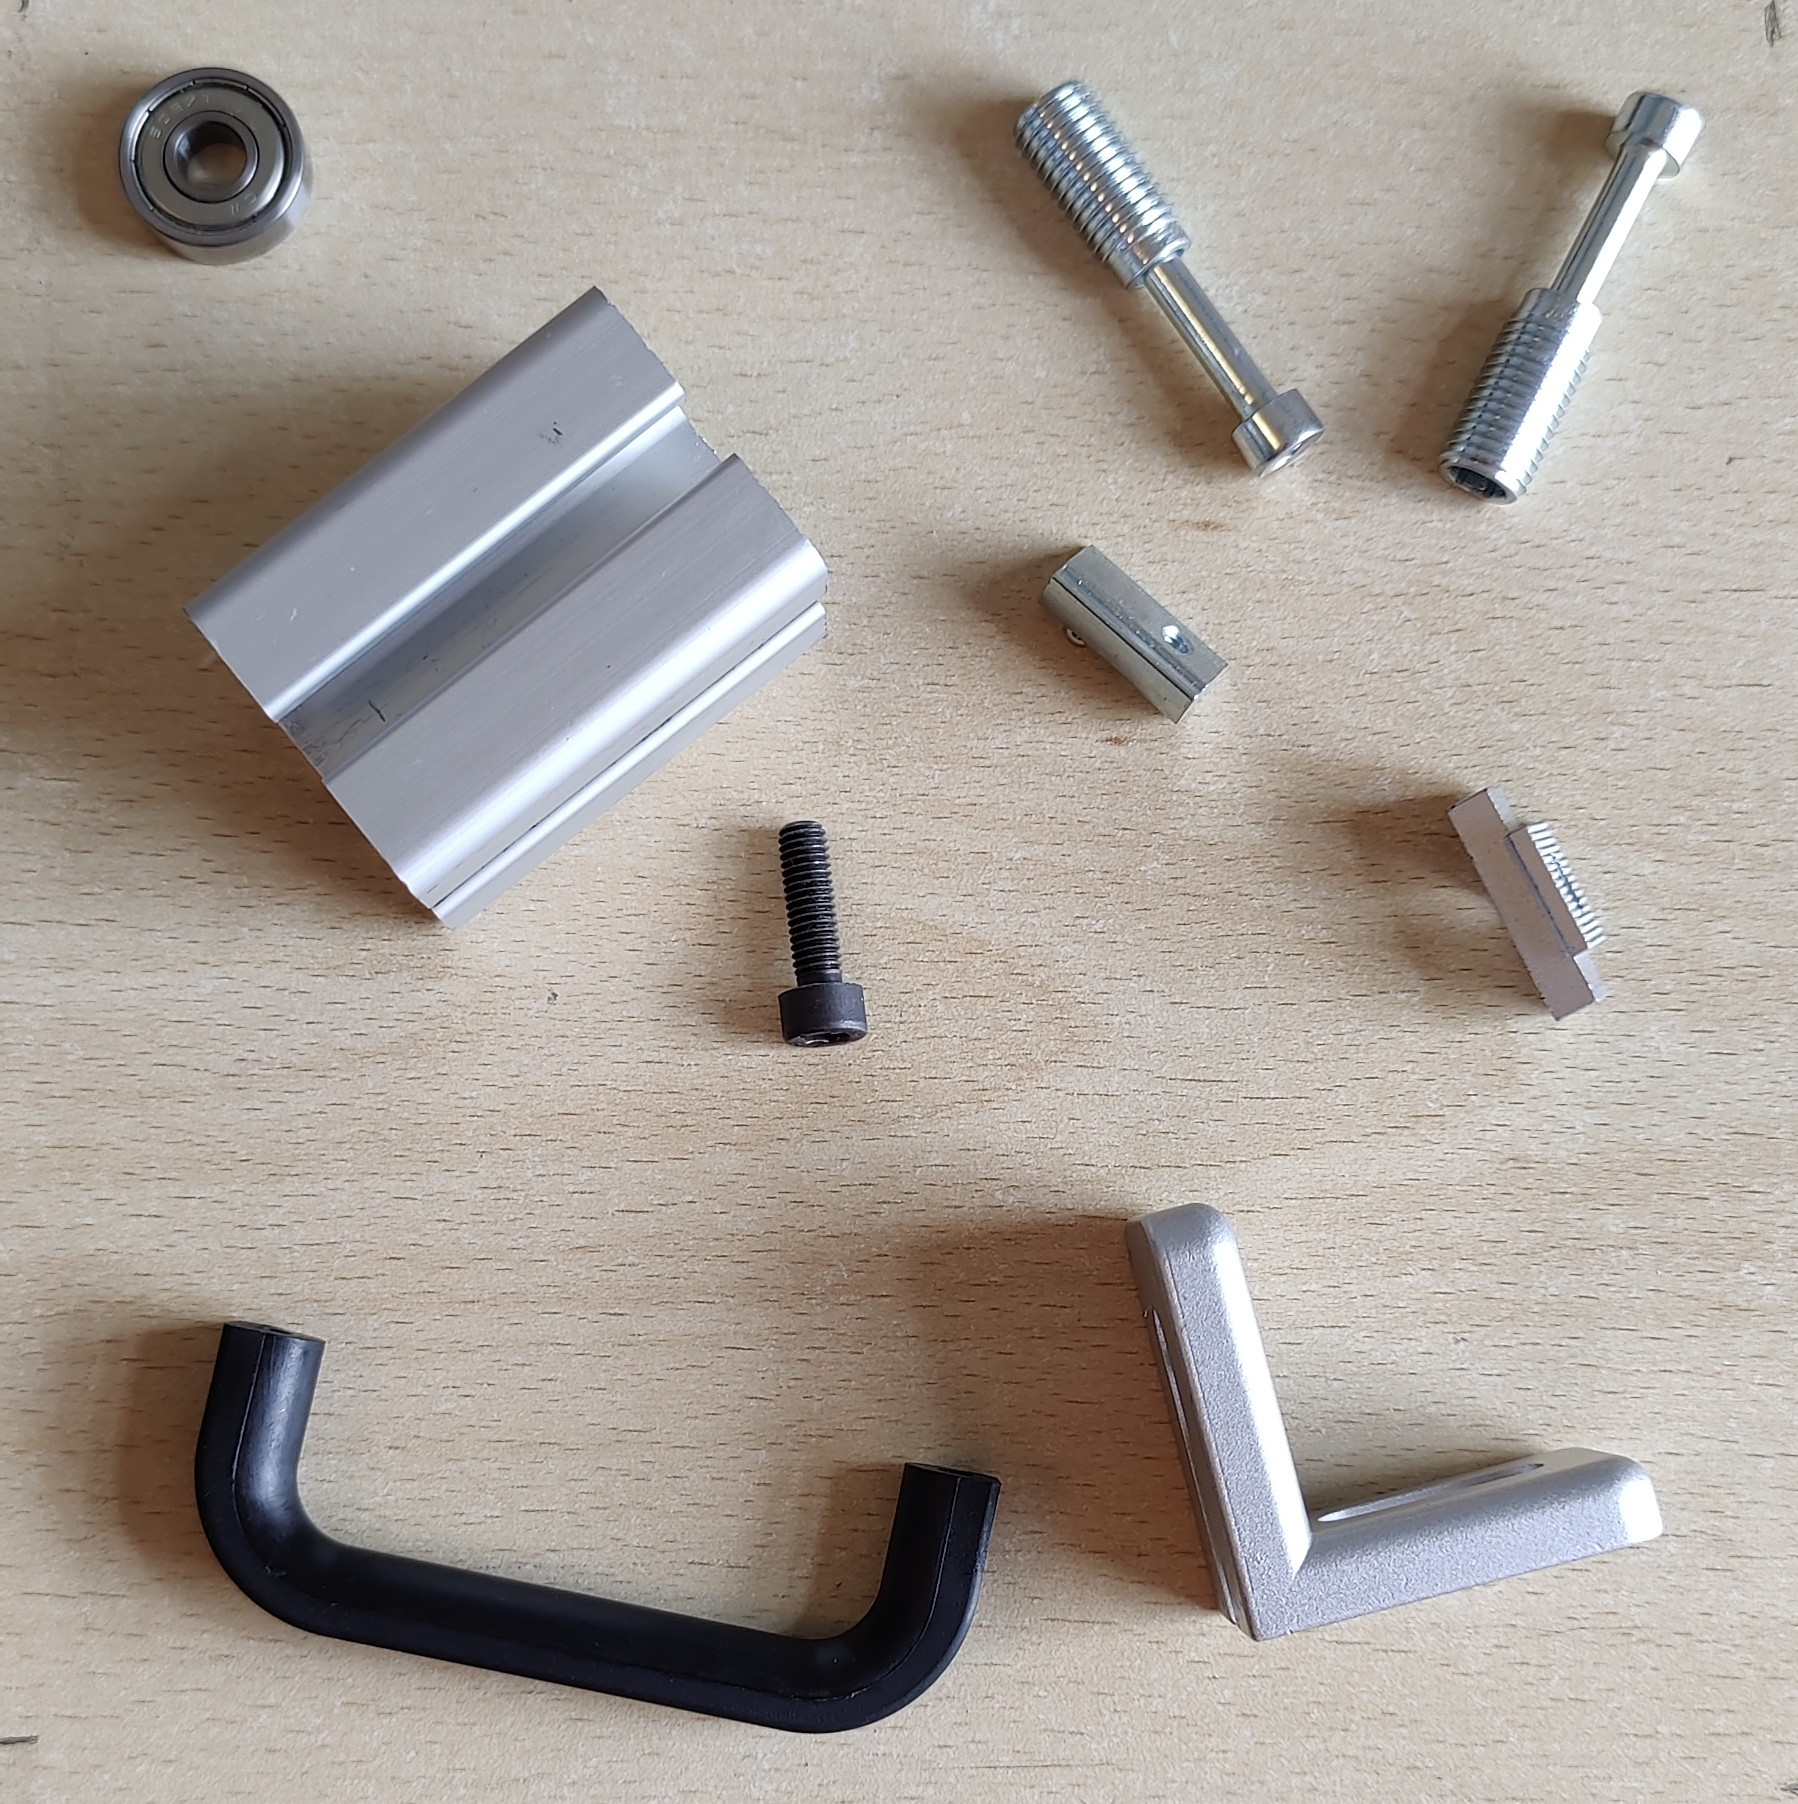Aluminium Extension: (183, 281, 833, 933)
Ball Bearing: (114, 63, 314, 268)
Multiwinkel: (1121, 1200, 1666, 1644)
Pull Handle: (191, 1317, 1006, 1737)
Shoulder Socket Head Cap Screw: (1009, 76, 1329, 486), (1432, 89, 1707, 509)
Socket Head Cap Screw: (772, 816, 869, 1052)
T Nut Square: (1442, 780, 1614, 1025)
T Spring Nut: (1036, 542, 1232, 731)
